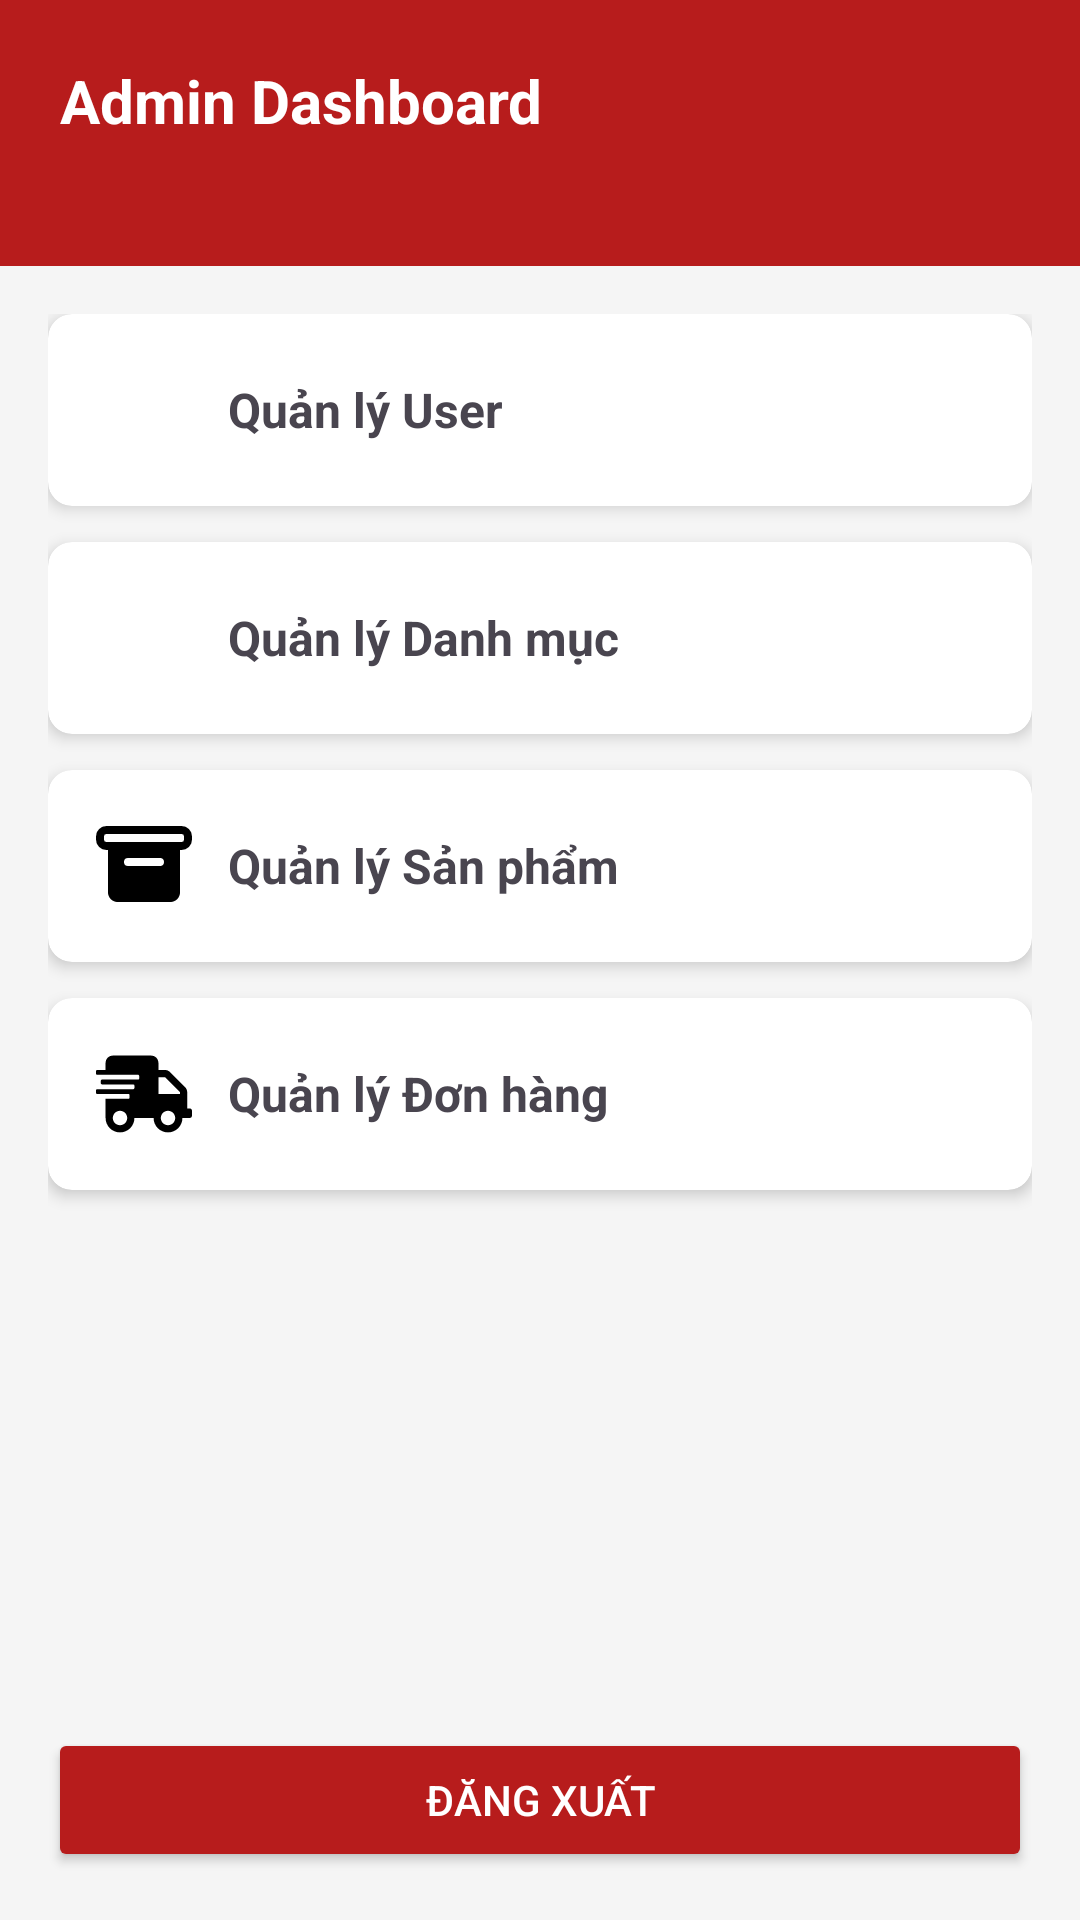

Icon bounding boxes for this 1080*1920 phone screenshot, format (x1, y1, x2, y2):
product: (96, 826, 192, 902)
shipping: (96, 1055, 192, 1133)
